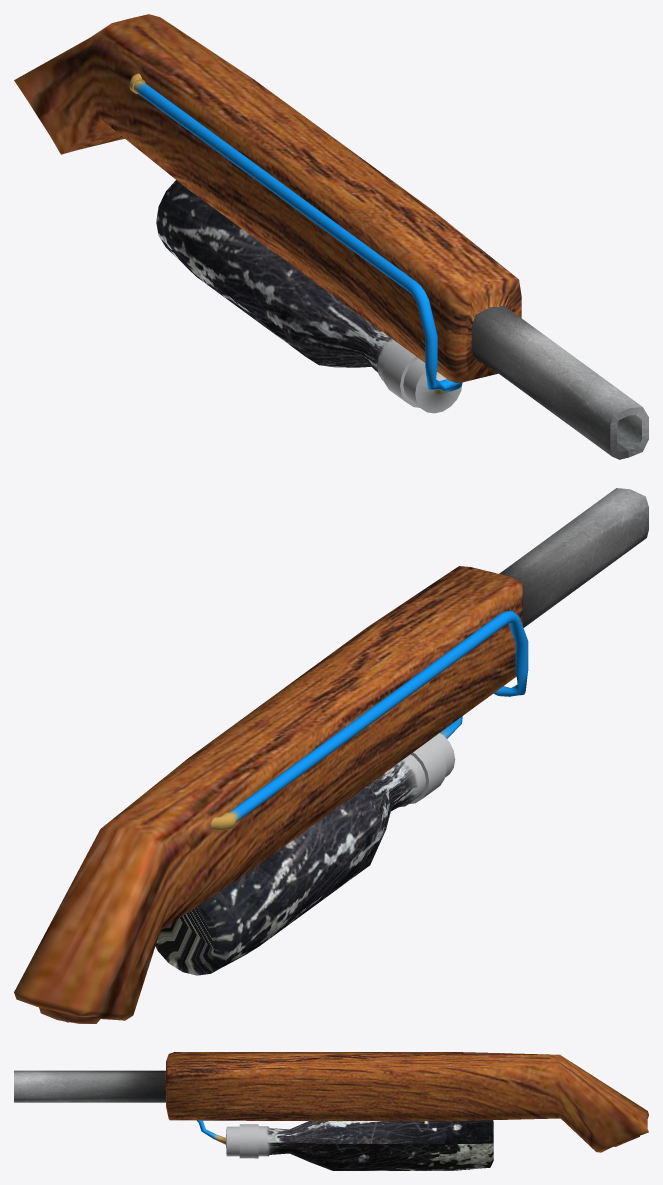
File: Harpoon Gun.FBX
3 renders of one model, top to bottom at view 1: azimuth 30°, elevation 25°; view 2: azimuth 150°, elevation 25°; view 3: azimuth 270°, elevation 25°, orthographic. The views are drawn at different scales.
Visible parts, largest first — view 1: Box002; view 2: Box002; view 3: Box002.
Boxes of the visible parts, x1=… form: Box002: x1=14, y1=14, x2=648, y2=459; Box002: x1=14, y1=488, x2=648, y2=1023; Box002: x1=14, y1=1052, x2=648, y2=1170.
Size of the model in its own units: 0.8782 by 1.6 by 8.61.
Materials: 1 (1 with a texture image).
